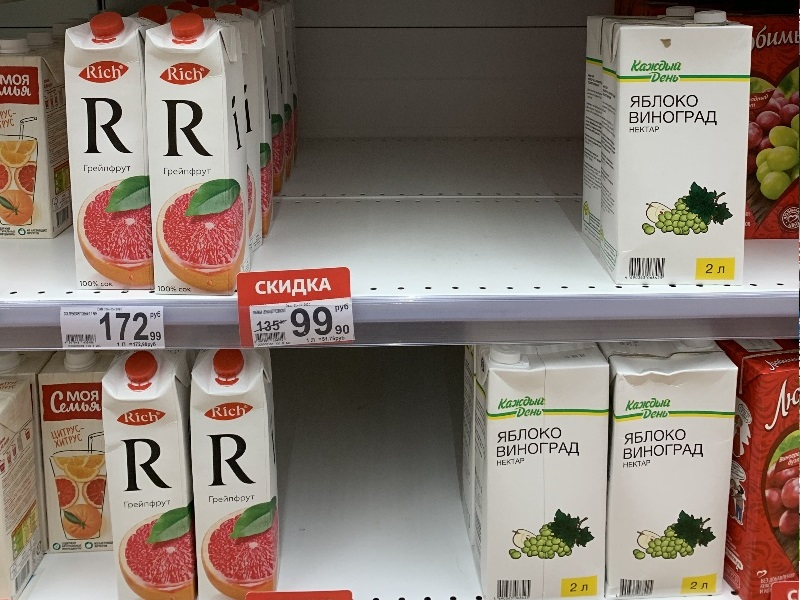juice: (140, 10, 250, 306), (86, 348, 205, 599), (66, 21, 158, 306), (185, 347, 289, 598)
